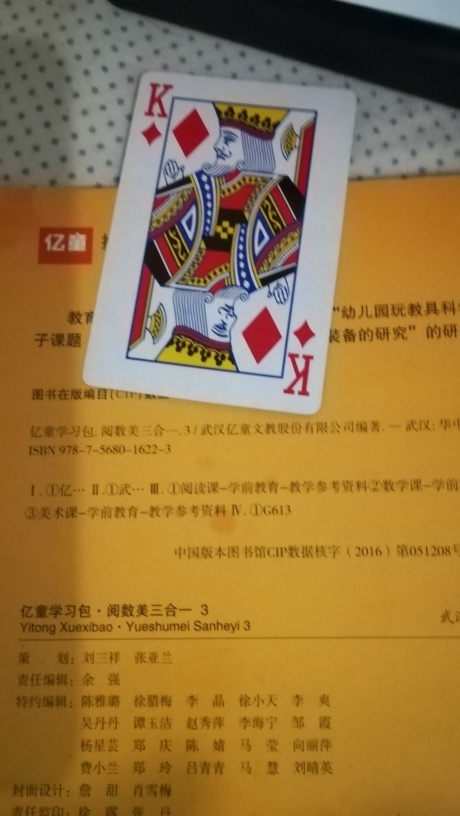fk k: (81, 66, 355, 416)
